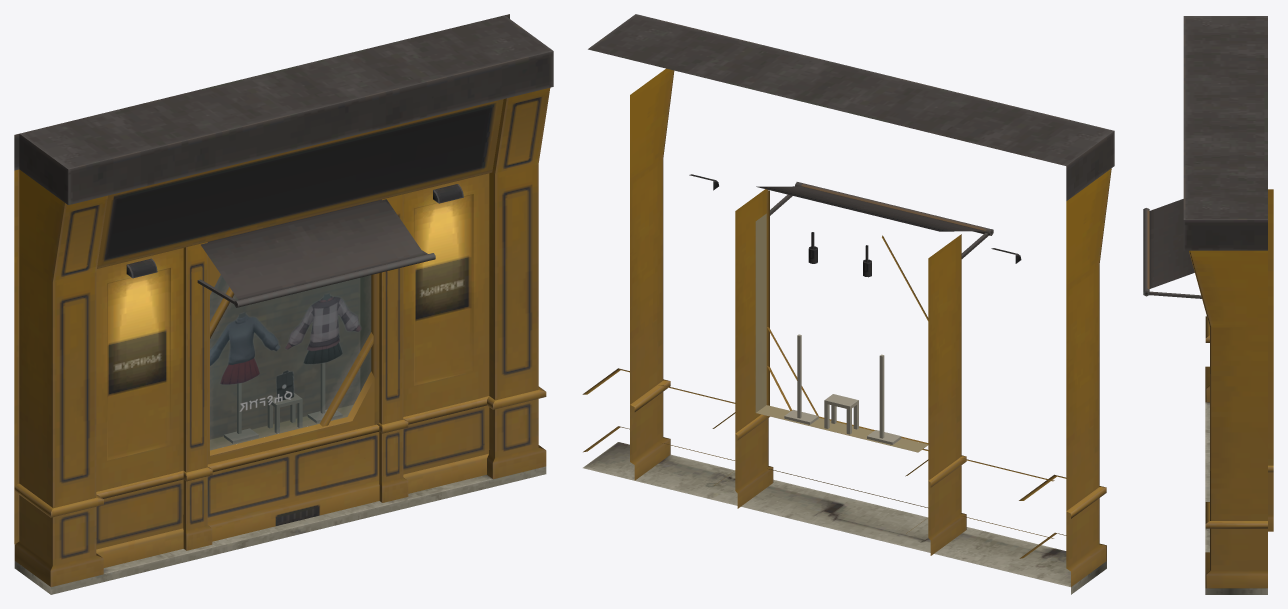
Rendered from t1_b_boutique1_b_wall.glb.
The picture shows the model from 3 angles, left to right: view 1: azimuth 30°, elevation 25°; view 2: azimuth 150°, elevation 25°; view 3: azimuth 270°, elevation 25°; orthographic projection. The views are drawn at different scales.
Visible parts, largest first — view 1: nomerge_t1_b_boutique1_b_wall_mesh; view 2: nomerge_t1_b_boutique1_b_wall_mesh; view 3: nomerge_t1_b_boutique1_b_wall_mesh.
Part boxes in pixels (x1,y1,x2,y2): nomerge_t1_b_boutique1_b_wall_mesh: (14,14,553,594); nomerge_t1_b_boutique1_b_wall_mesh: (582,14,1114,594); nomerge_t1_b_boutique1_b_wall_mesh: (1143,16,1273,594).
Bounding box in the file's own units: 5.5 × 4.6 × 1.46.
Materials: 3 (3 with a texture image).
